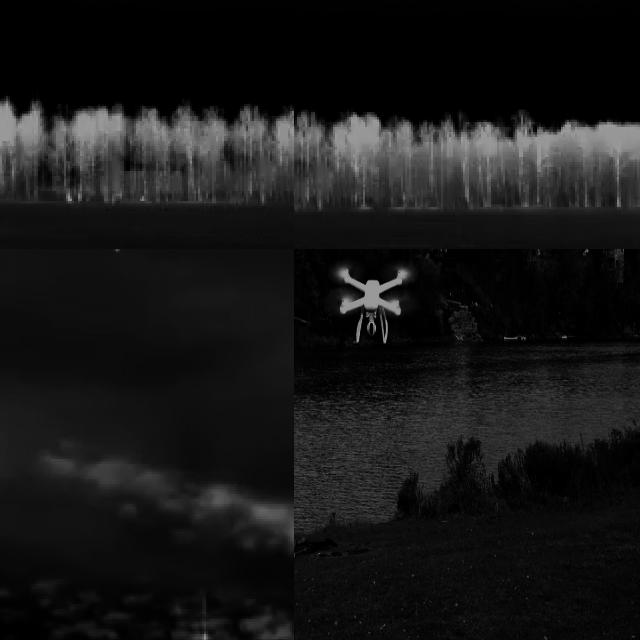0: (96, 249, 130, 258)
drone: (332, 258, 406, 348)
